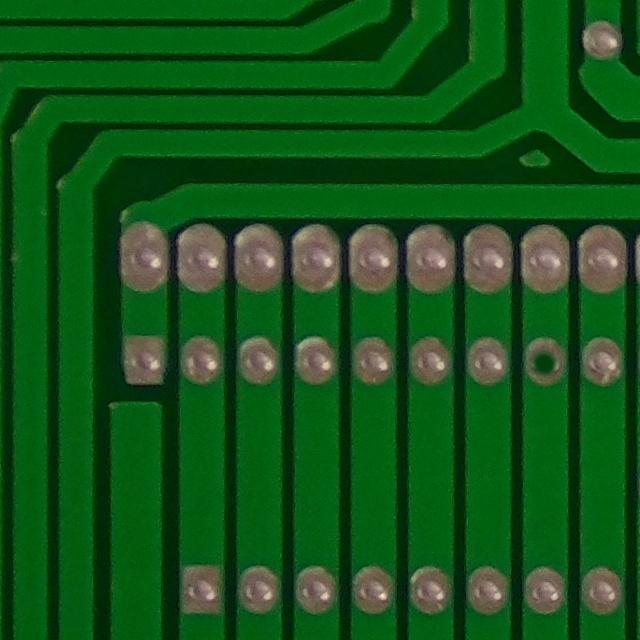missing_hole: (513, 330, 566, 391)
